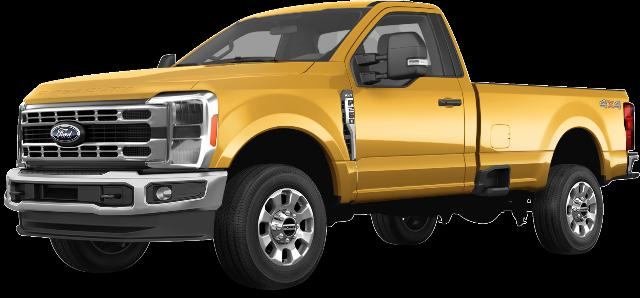pickup-truck: (4, 0, 639, 291)
